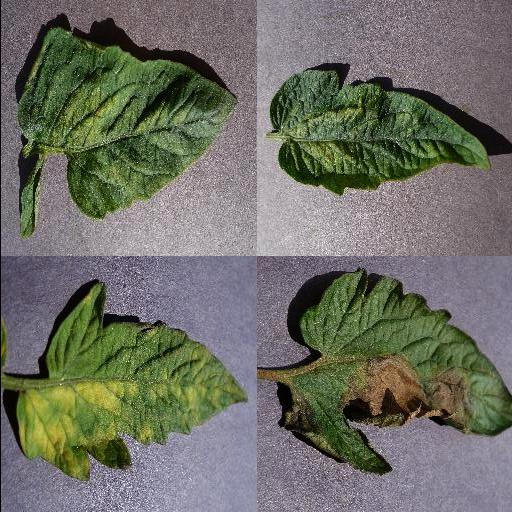Late Blight: (282, 266, 512, 476)
Leaf Mold: (14, 282, 248, 482)
Spider Mites: (18, 28, 238, 218), (270, 70, 490, 196)
